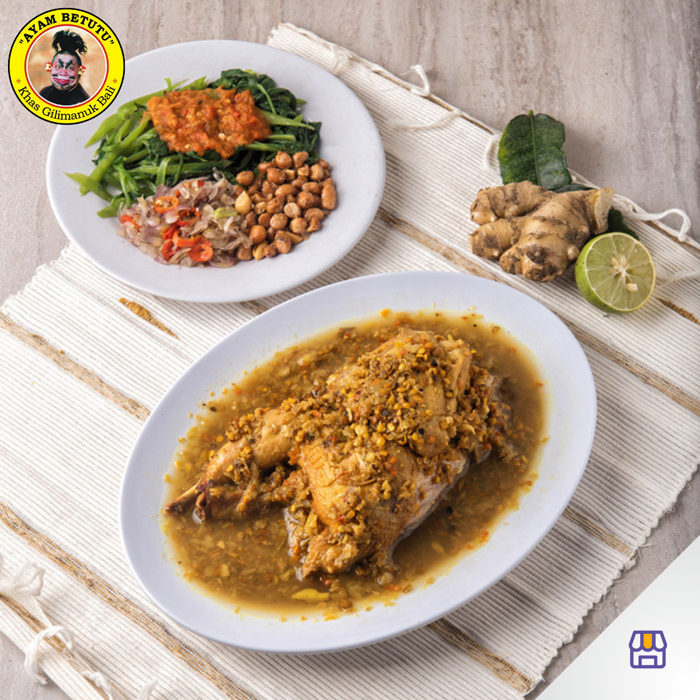ayam_betutu: (162, 327, 511, 577)
